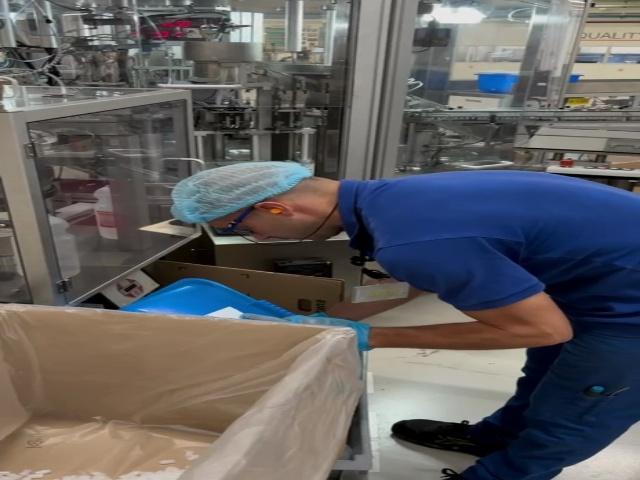Earplug: (251, 200, 300, 220)
Hairnet: (172, 158, 297, 225)
No_Helmet: (172, 162, 313, 220)
No_Vest: (341, 172, 640, 310)
Person: (171, 160, 640, 480)
Safety_Goggles: (216, 190, 262, 240)
